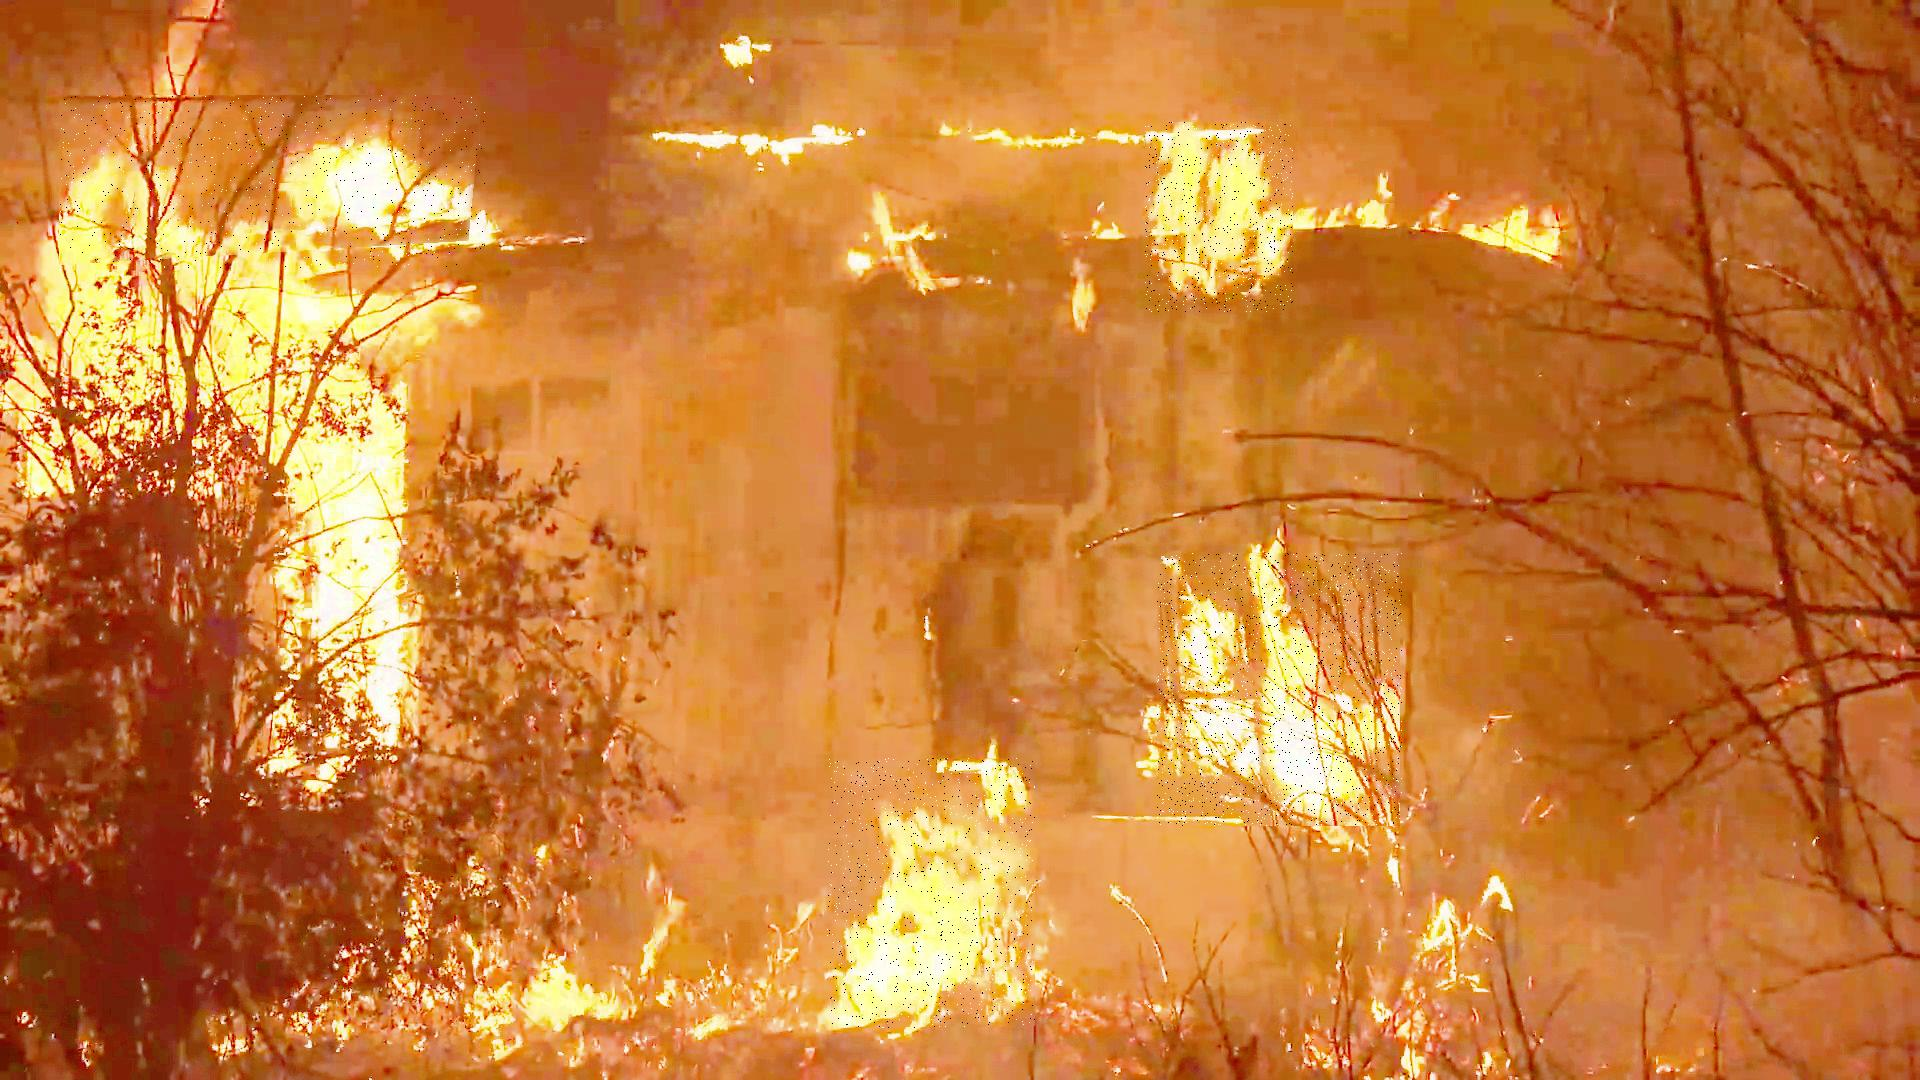fire: (59, 95, 485, 269), (1158, 553, 1403, 827), (827, 758, 1035, 1029), (1145, 123, 1294, 313)
